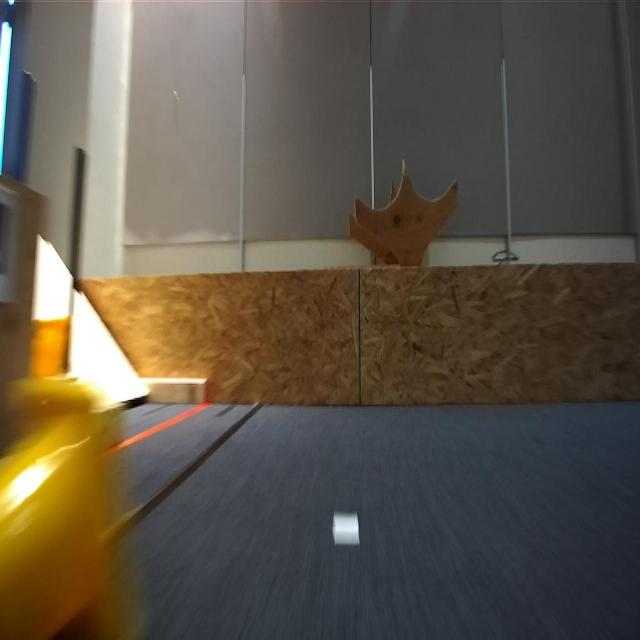frc_cone: (0, 374, 138, 640), (31, 314, 71, 382)
